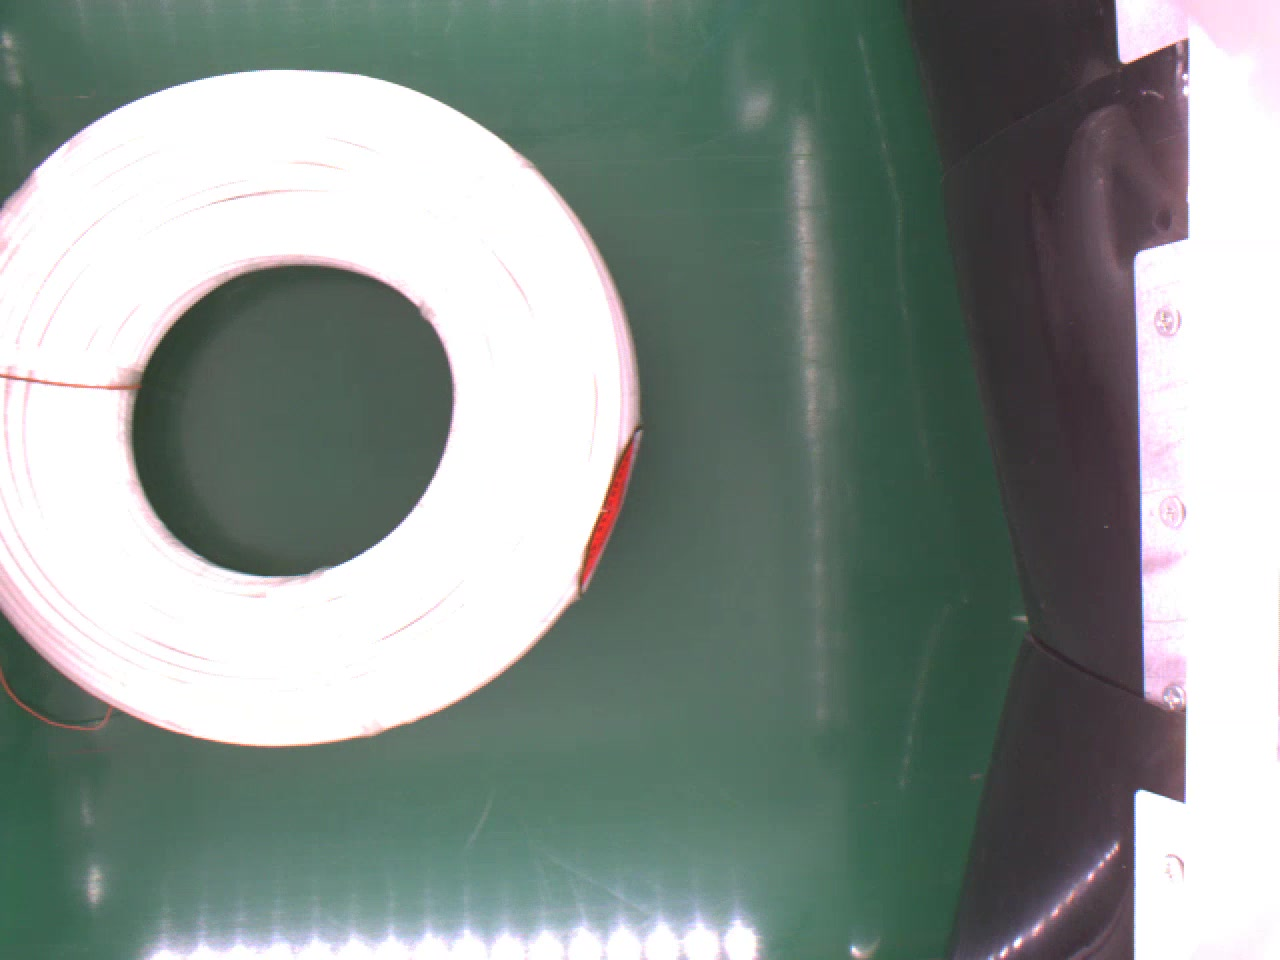white: (0, 73, 633, 744)
